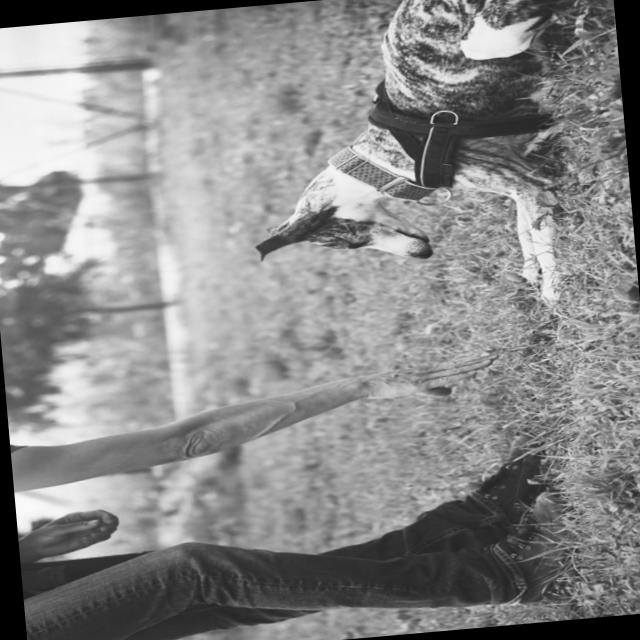laying down: (230, 0, 593, 328)
